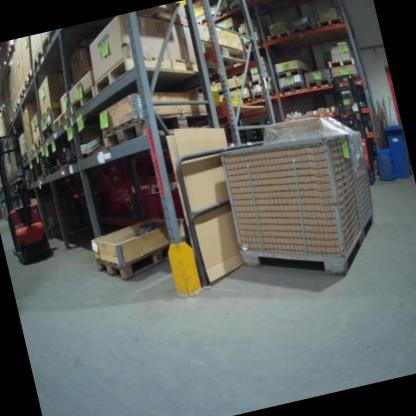pallet: (91, 40, 202, 104), (93, 239, 194, 290), (201, 30, 255, 79), (98, 117, 148, 146), (24, 39, 58, 81), (67, 83, 101, 121), (50, 107, 76, 136), (273, 62, 312, 80), (38, 99, 68, 122), (327, 53, 360, 73), (290, 20, 320, 41), (316, 12, 346, 32), (277, 80, 309, 97), (307, 75, 337, 93), (265, 27, 293, 46), (20, 66, 39, 94), (245, 72, 274, 88), (40, 121, 58, 146), (222, 80, 250, 95), (253, 88, 279, 104), (15, 85, 29, 104), (33, 136, 45, 154), (26, 146, 37, 162), (239, 94, 253, 104)
pallet_truck: (0, 127, 55, 269), (324, 67, 388, 189)
stillage: (211, 113, 397, 305)
